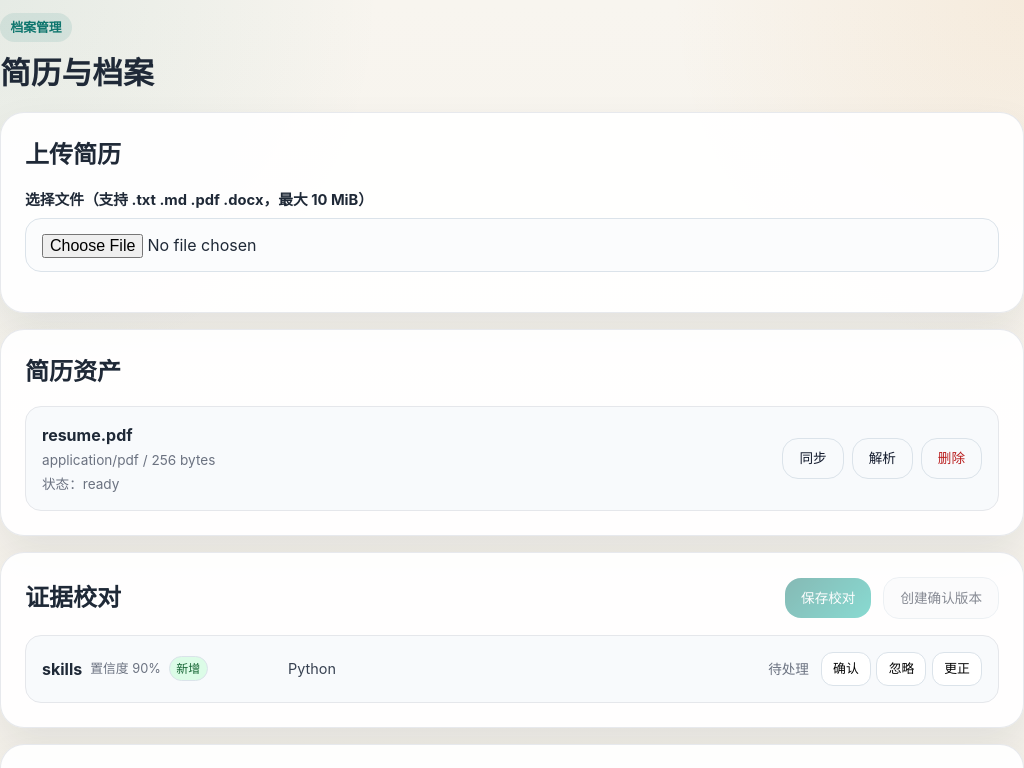
Test: ProfileWorkspace › deletes an asset after confirmation and refreshes the list
Click the button with test id "delete-asset" at coordinates (951, 459), box [921,438,982,480]
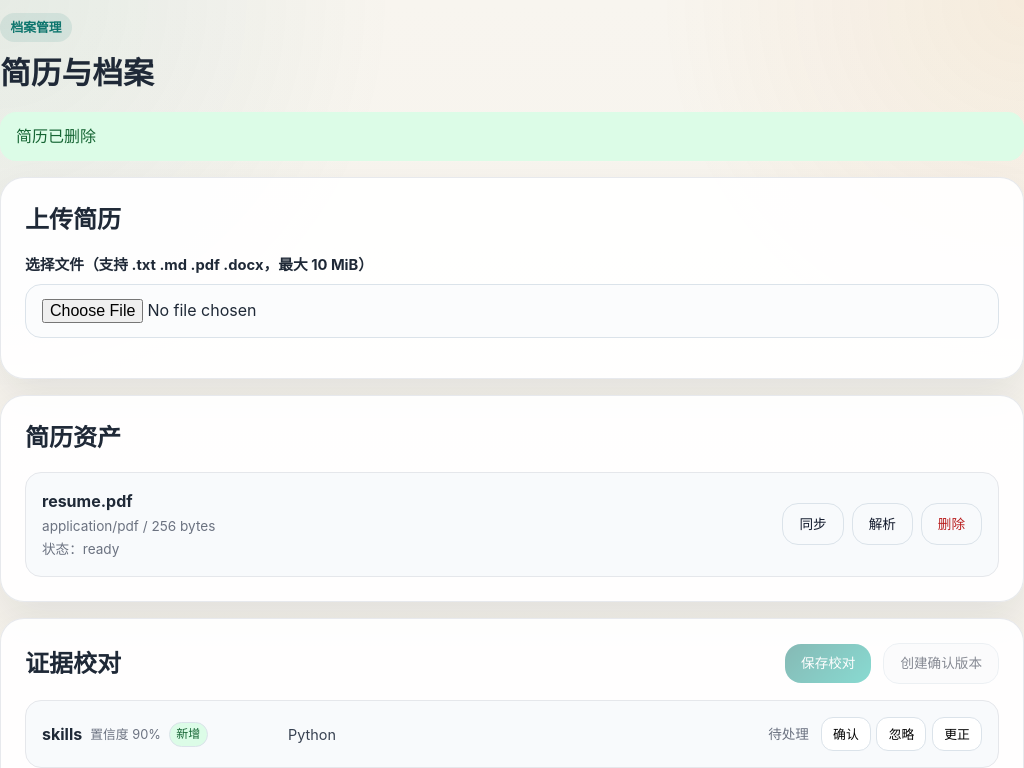
Now the text "简历已删除" is shown, box [0,112,1023,161]
